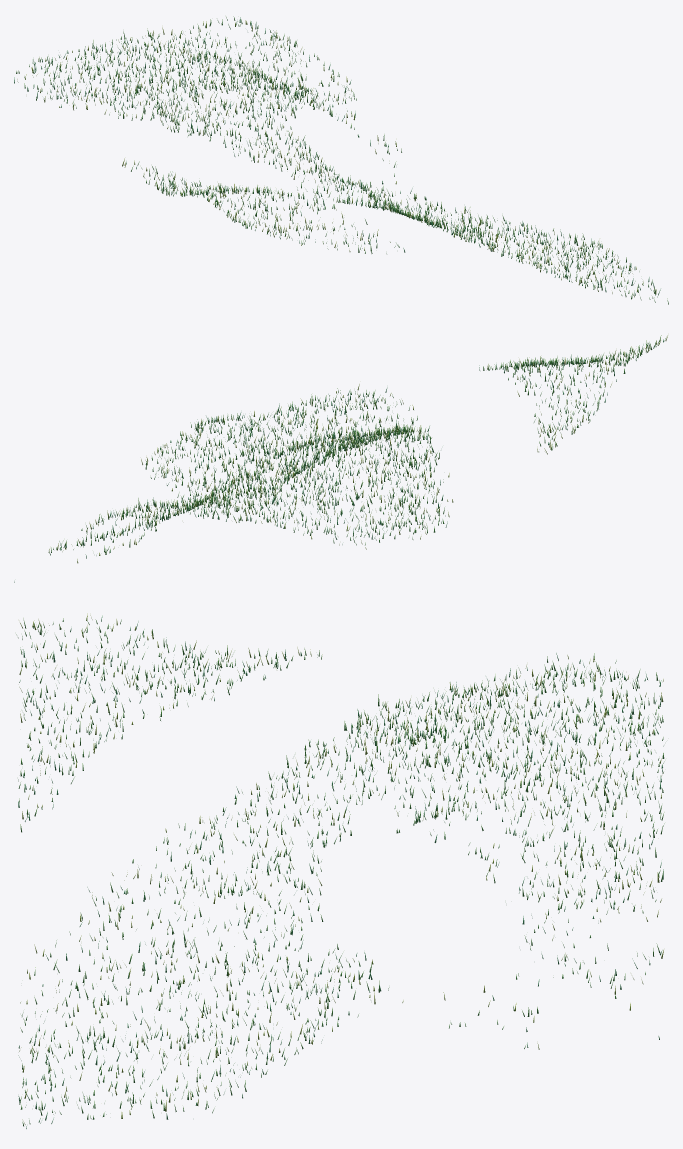
3 views of the same model, one above another, from view 1: azimuth 30°, elevation 25°; view 2: azimuth 150°, elevation 25°; view 3: azimuth 270°, elevation 25° (orthographic). The views are drawn at different scales.
Parts seen in each view (by area): view 1: gc_42; view 2: gc_42; view 3: gc_42.
Boxes of the visible parts, x1=… form: gc_42: x1=14, y1=16, x2=668, y2=304; gc_42: x1=14, y1=335, x2=667, y2=582; gc_42: x1=16, y1=613, x2=664, y2=1128.
Size of the model in its own units: 18.15 by 7.74 by 18.26.
1 material, 1 textured.
